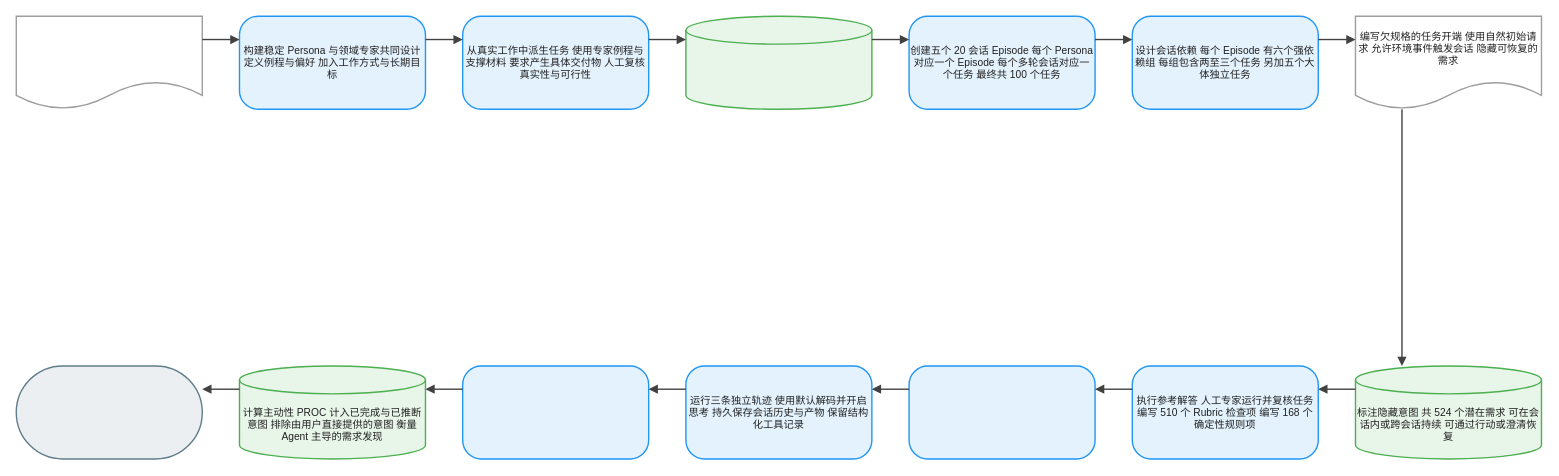
The diagram is 1559 pixels wide and 476 high, and some of its shapes have lost their labels. The centre of each missing label's shape, as x and y in pixels:
构建持久环境 项目文件跨会话保留 提供 187 个独立工具 提供 21 个可复用技能: point (778, 62)
计算完成度 COMP Rubric 严格判断 YES 或 NO 合并确定性规则结果 报告均值与标准差: point (109, 412)
跟踪意图终态 已完成 · 已推断 · 用户提供 优先直接完成再定向询问 所有意图终态后停止: point (555, 412)
选择五种职业角色 研究员 · 营销人员 · 法律实习生 药剂师 · 金融从业者 覆盖不同长程工作流: point (109, 62)
配置交互循环 使用相同 Nanobot 派生脚手架 GPT-5.4 模拟用户温度为 0 观察消息工具与工作区: point (1001, 412)
